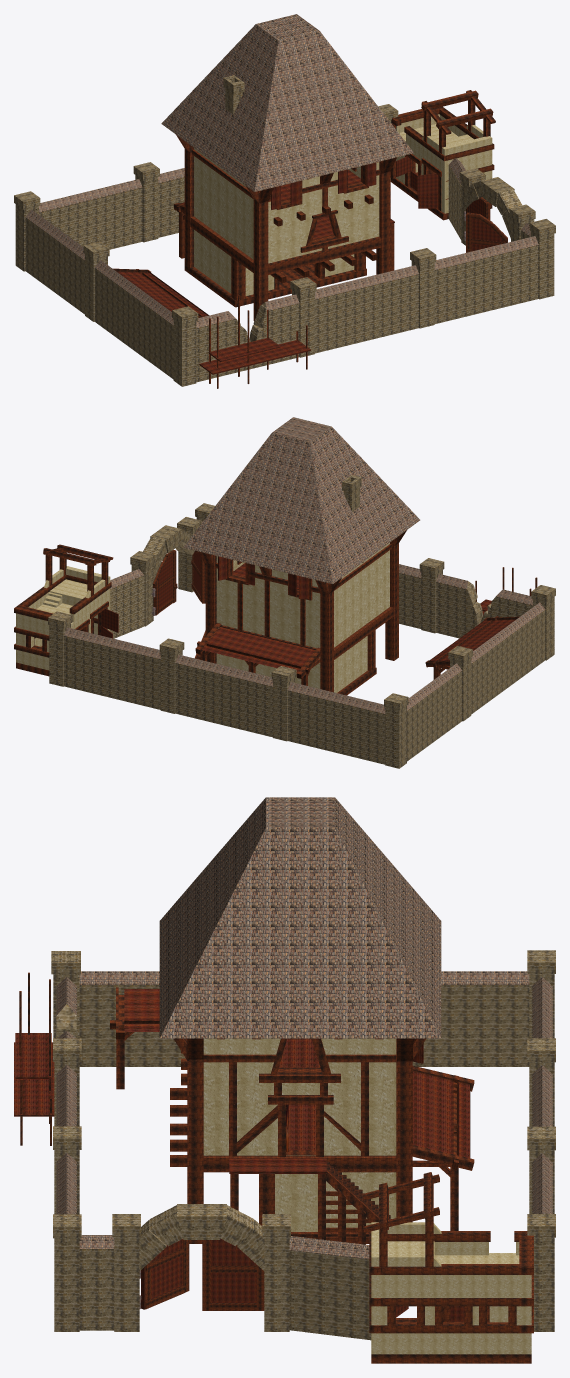
File: buildings_small_guild01.glb
The picture shows the model from 3 angles, top to bottom: view 1: azimuth 30°, elevation 25°; view 2: azimuth 150°, elevation 25°; view 3: azimuth 270°, elevation 25°; orthographic projection. The views are drawn at different scales.
Parts seen in each view (by area): view 1: guild01; view 2: guild01; view 3: guild01.
Part boxes in pixels (bbox=[...]): guild01: bbox=[14, 14, 555, 388]; guild01: bbox=[14, 417, 555, 768]; guild01: bbox=[14, 797, 555, 1363].
Bounding box in the file's own units: 45.84 × 26.69 × 33.88.
Materials: 9 (9 with a texture image).
